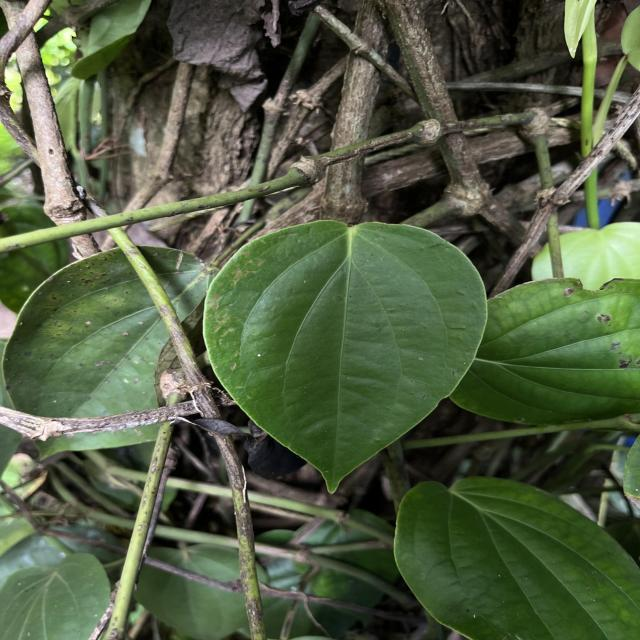Piper nigrum: (200, 217, 490, 497)
